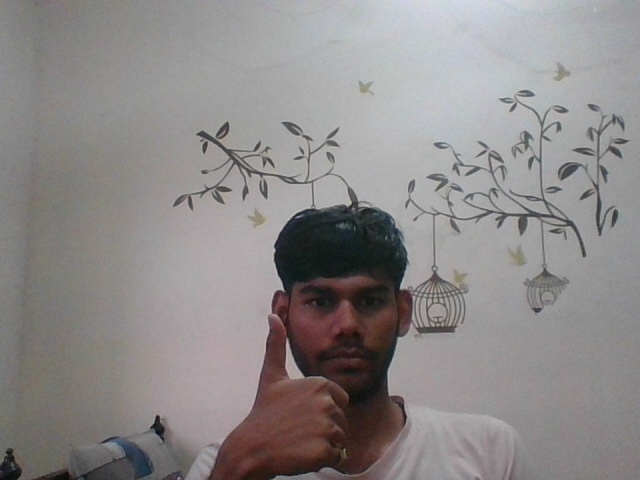Yes: (227, 305, 362, 463)
